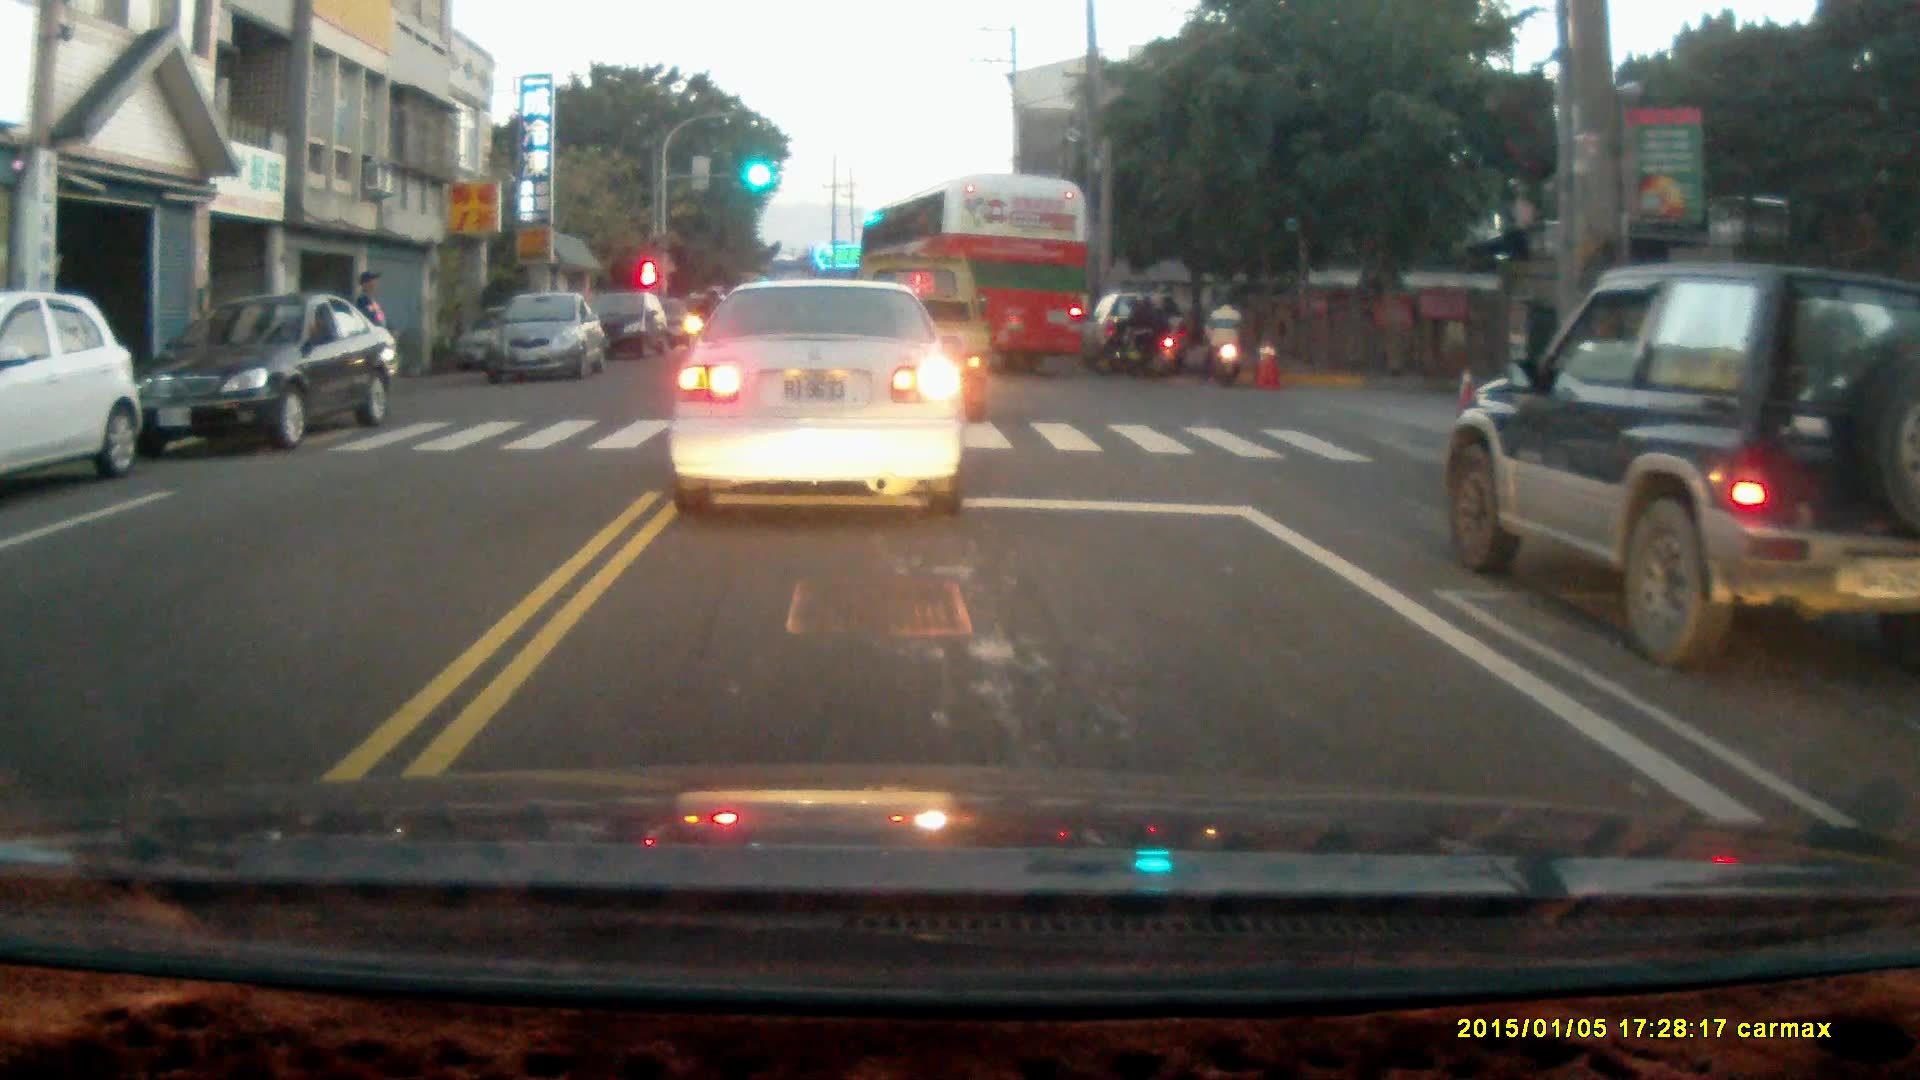pedestrian: (350, 269, 390, 407)
rider: (1093, 291, 1172, 378), (1191, 291, 1243, 389)
vehicle: (1447, 262, 1920, 672), (671, 278, 968, 522), (855, 171, 1092, 378), (124, 295, 404, 460), (1, 289, 142, 494), (474, 292, 610, 386), (1093, 290, 1210, 383), (587, 295, 674, 368)
